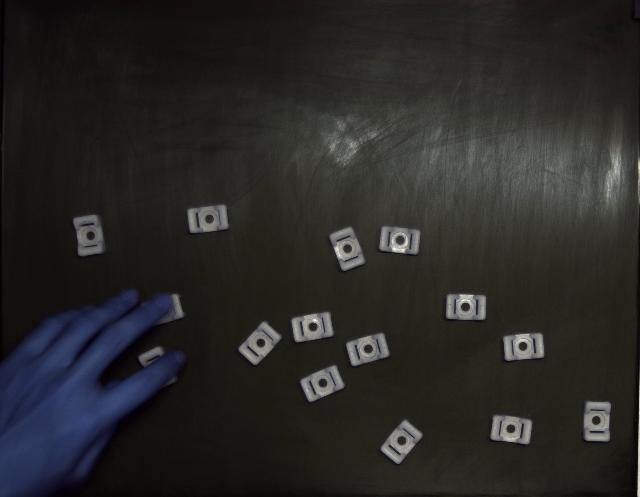first_side: (380, 420, 422, 465), (239, 321, 281, 365), (300, 365, 345, 402), (329, 228, 365, 271), (346, 334, 390, 366), (72, 215, 105, 256), (291, 312, 334, 342), (490, 415, 532, 445), (379, 226, 421, 255), (188, 205, 229, 234), (502, 334, 545, 361), (445, 294, 486, 321), (584, 401, 611, 442)
